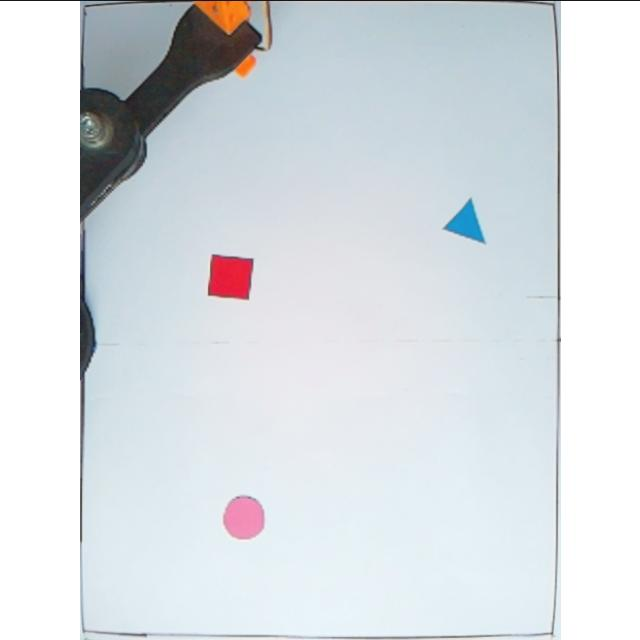blueTriangle: (439, 194, 488, 246)
pinkCircle: (220, 492, 264, 540)
redSquare: (205, 252, 253, 302)
